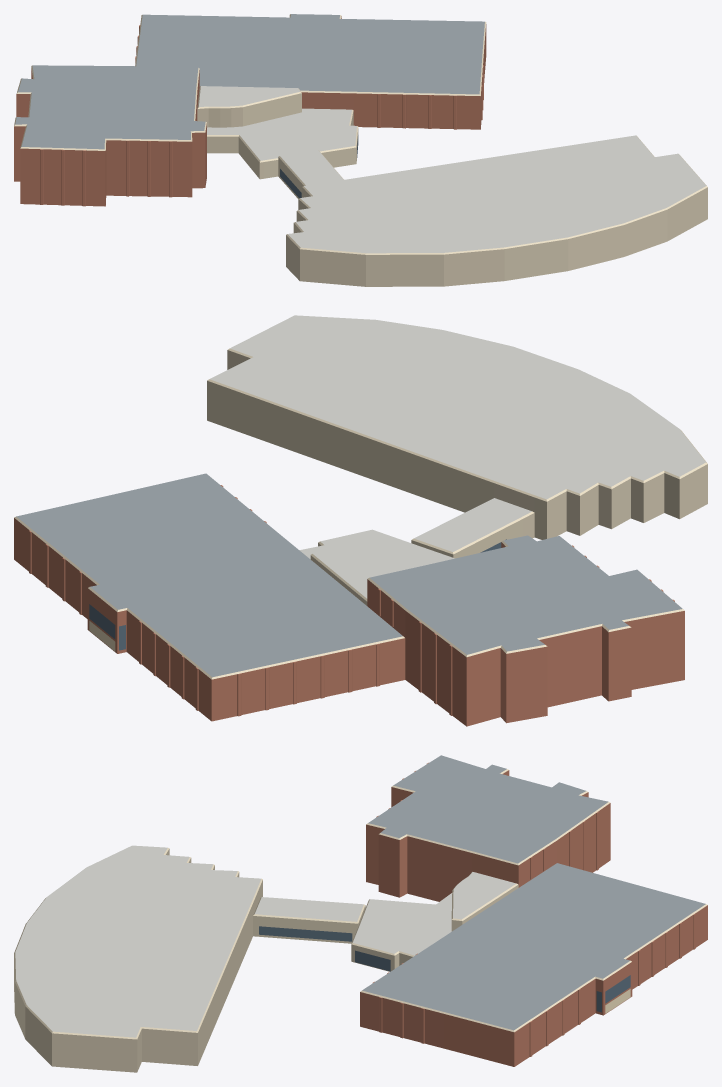
File: park-expo-center.glb
3 views of the same model, one above another, from view 1: azimuth 30°, elevation 25°; view 2: azimuth 150°, elevation 25°; view 3: azimuth 270°, elevation 25° (orthographic). The views are drawn at different scales.
Parts seen in each view (by area): view 1: Park Expo and Conference Center; view 2: Park Expo and Conference Center; view 3: Park Expo and Conference Center.
Part boxes in pixels (<box>): Park Expo and Conference Center: <box>14,14,707,286</box>; Park Expo and Conference Center: <box>14,315,707,726</box>; Park Expo and Conference Center: <box>14,755,707,1072</box>.
Bounding box in the file's own units: 210 × 22.2 × 238.
